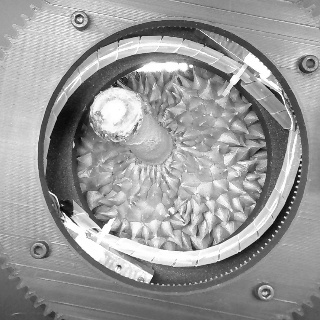base: (131, 125, 180, 170)
end: (89, 86, 144, 143)
